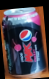pepsi: (2, 8, 47, 77)
